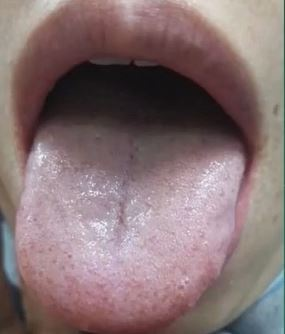baitaishe: (14, 95, 246, 334)
